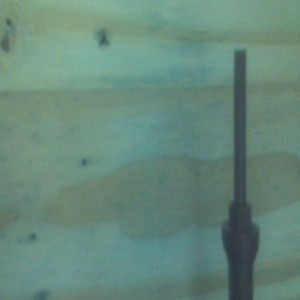obeng: (221, 48, 261, 300)
